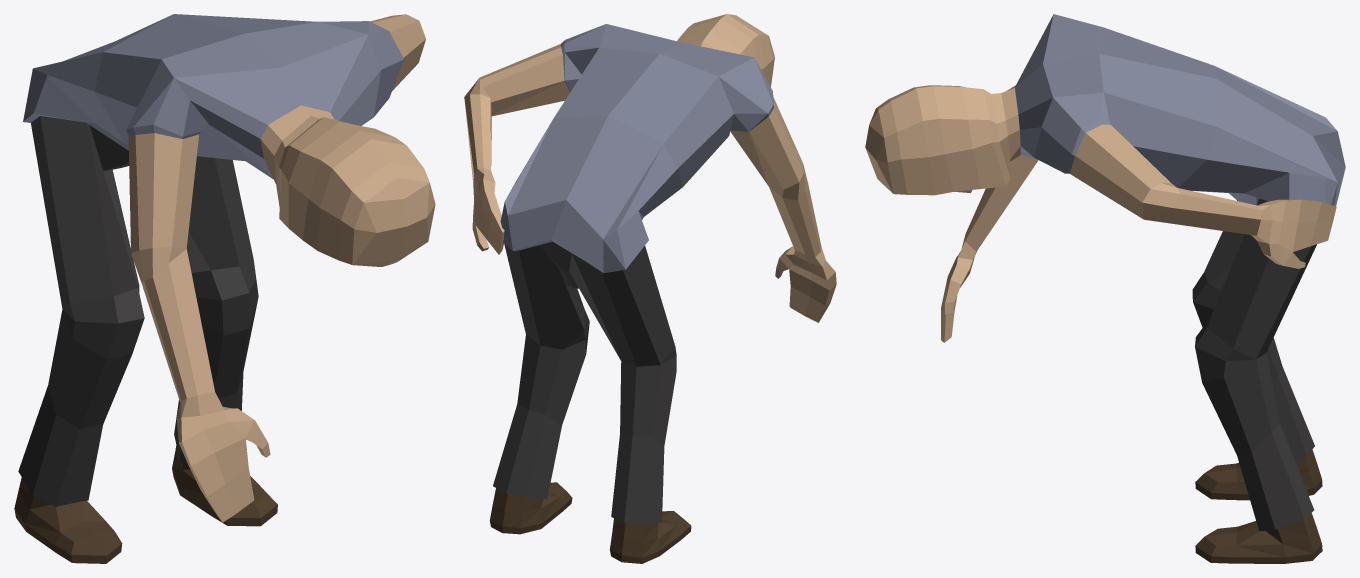
Rendered from Male_PickingUp.glb.
The picture shows the model from 3 angles, left to right: view 1: azimuth 30°, elevation 25°; view 2: azimuth 150°, elevation 25°; view 3: azimuth 270°, elevation 25°; orthographic projection. The views are drawn at different scales.
Visible parts, largest first — view 1: Male_PickingUp; view 2: Male_PickingUp; view 3: Male_PickingUp.
Part boxes in pixels (<box>): Male_PickingUp: <box>14,14,435,563</box>; Male_PickingUp: <box>464,14,836,563</box>; Male_PickingUp: <box>865,14,1345,563</box>.
Bounding box in the file's own units: 1.59 × 2.33 × 2.16.
